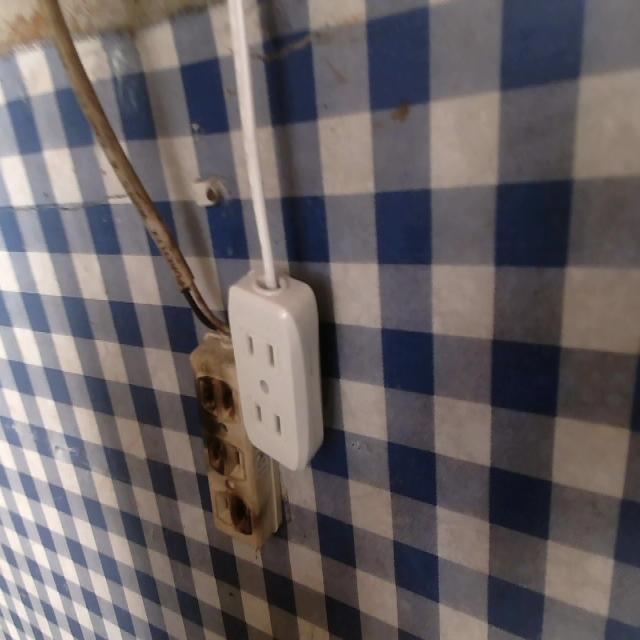-: (191, 368, 243, 428), (225, 478, 259, 550), (199, 430, 231, 474)
